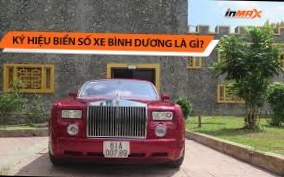Bien-so: (107, 141, 133, 156)
